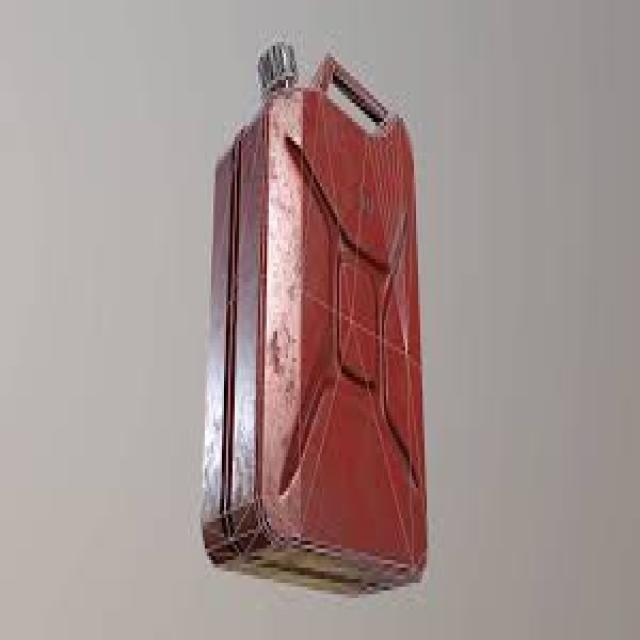gasolin: (198, 42, 427, 598)
